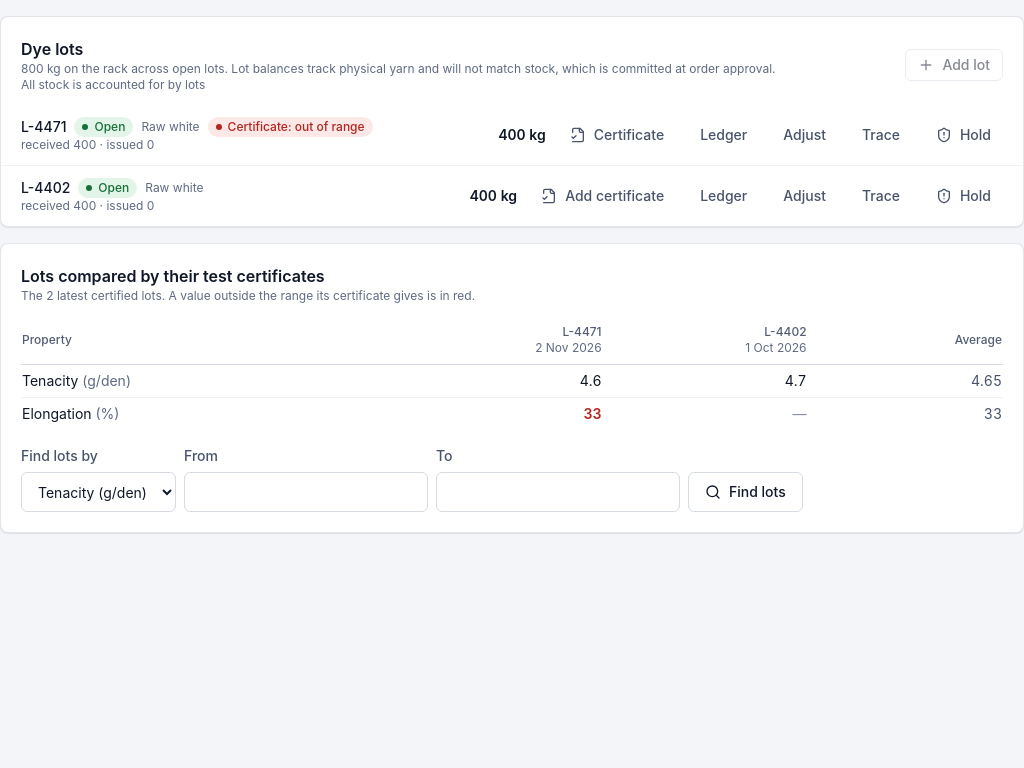
Test case: lots compared by their certificates › side by side, the out-of-range value marked; lots found by a property
Expected: the text "Tenacity" shows "4.65", [971,372,1002,389]
Type "4.65" into the number field labelled "From". click: (306, 492)
box: [184,472,428,512]
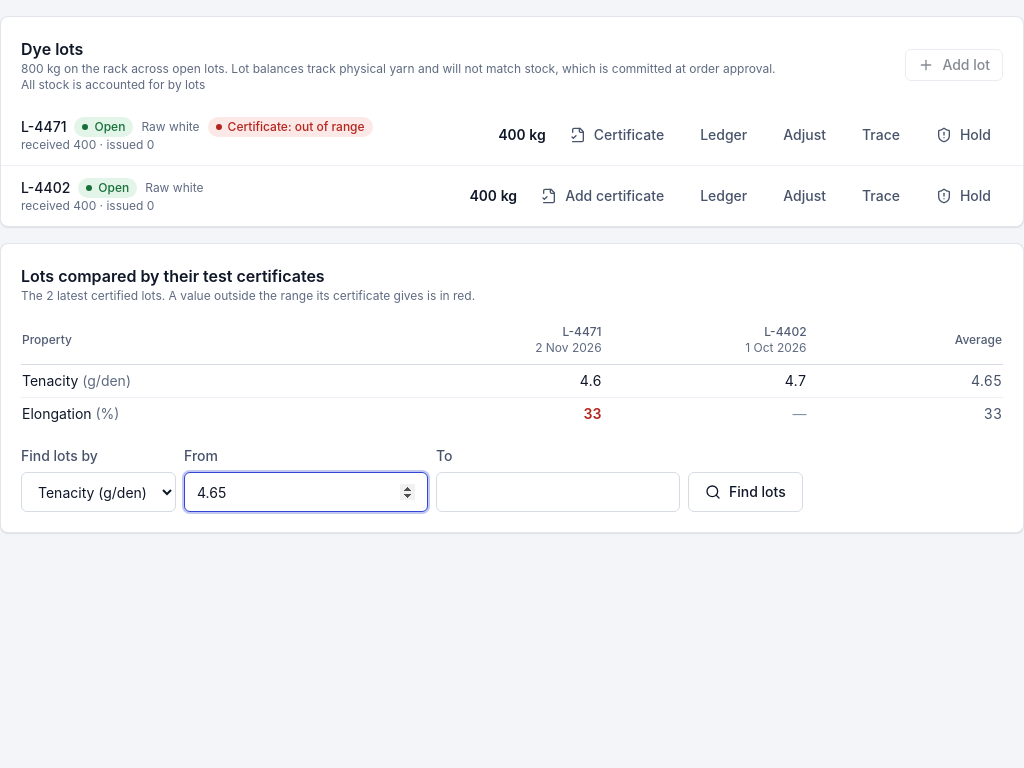
Click the button "Find lots". click: (745, 492)
box: [688,472,803,512]
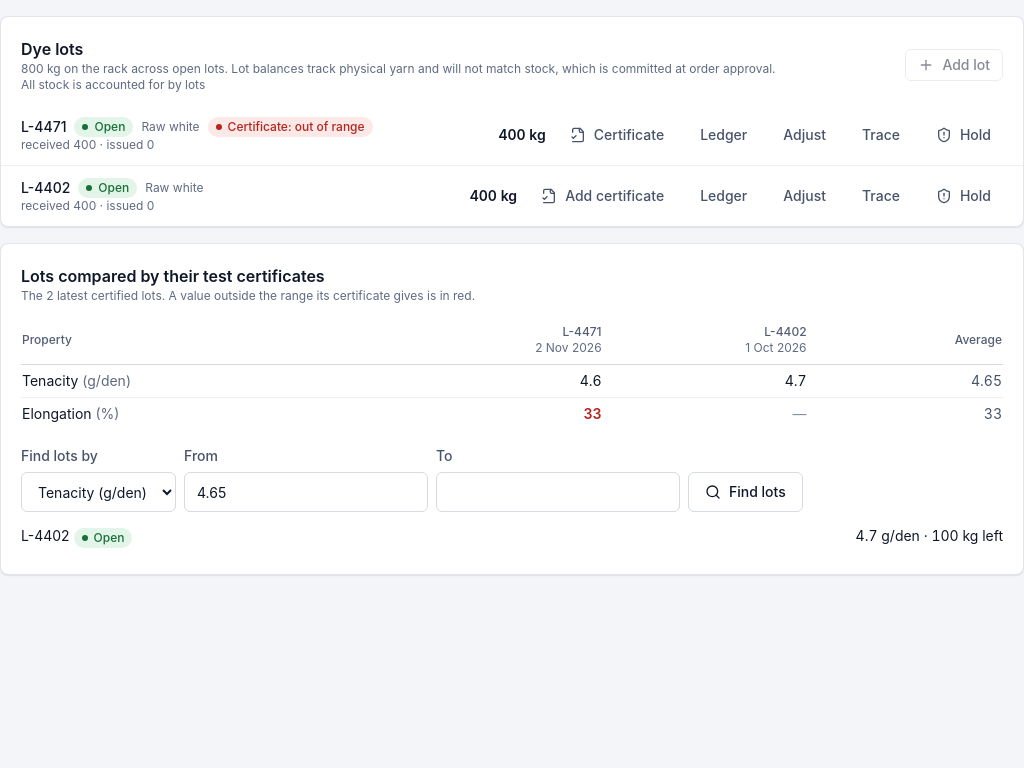
Expected: the list named "Lots found" shows "L-4402", [21,527,70,544]
